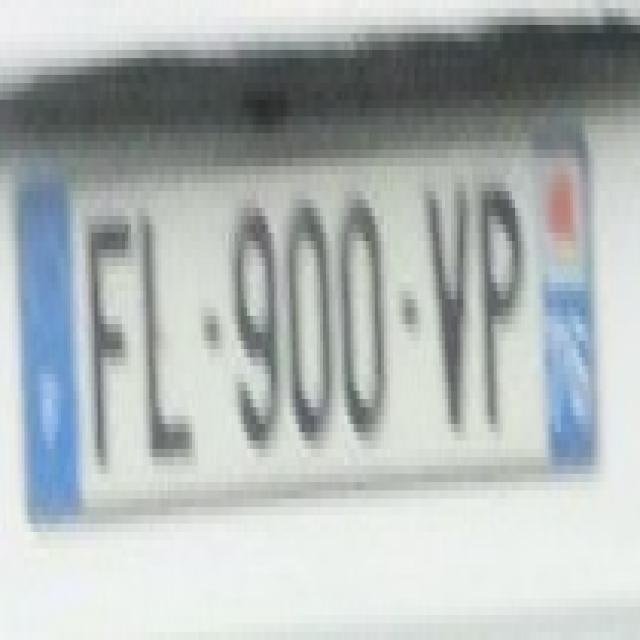Allemagne: (17, 172, 85, 534)
EU: (9, 167, 602, 551)
